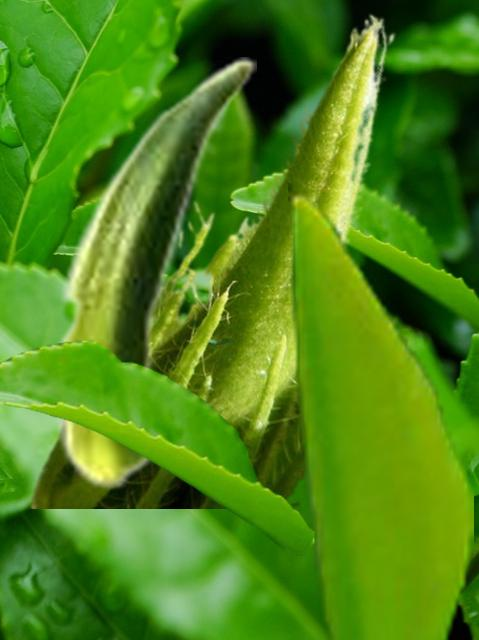okra: (24, 12, 395, 507), (52, 57, 255, 490)
